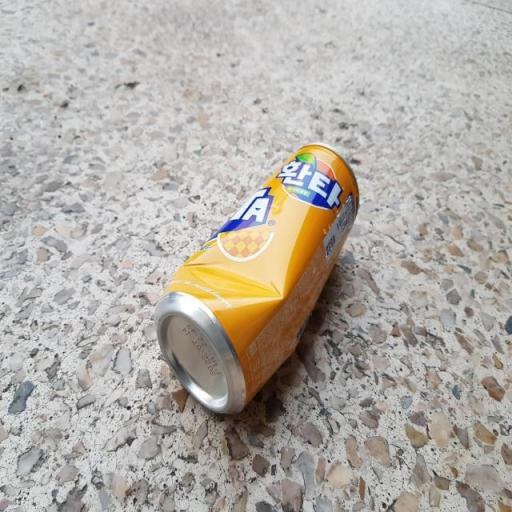metal: (145, 137, 363, 421)
